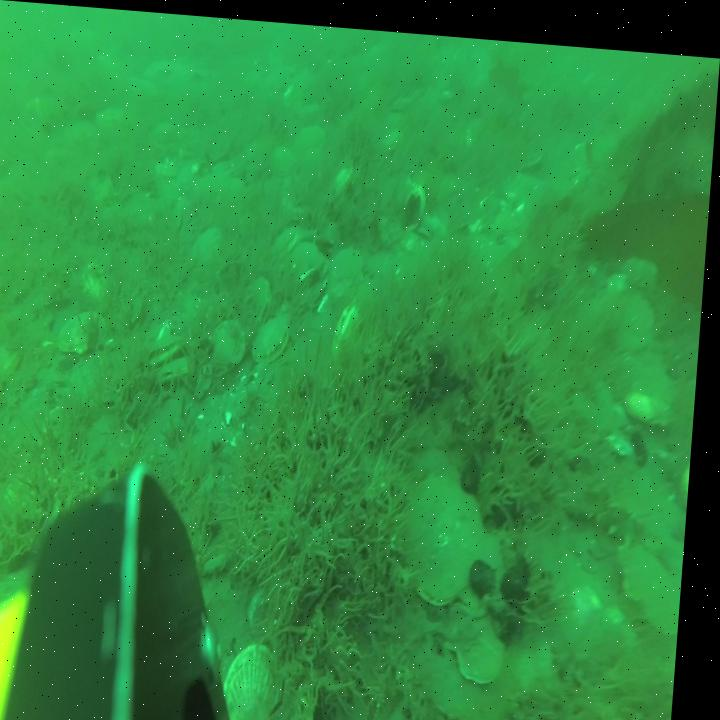holothurian: (566, 469, 657, 540)
scallop: (405, 469, 491, 599), (231, 631, 297, 720), (460, 524, 514, 605), (450, 569, 498, 641), (621, 339, 677, 400), (612, 275, 660, 342), (469, 609, 517, 675), (624, 529, 675, 591), (652, 553, 690, 629), (630, 374, 680, 425), (210, 314, 252, 372), (64, 308, 109, 360), (257, 310, 300, 363), (154, 352, 202, 392), (243, 271, 277, 327), (626, 240, 664, 288), (330, 239, 364, 290), (289, 232, 326, 278), (193, 225, 231, 266), (273, 212, 309, 253), (270, 139, 302, 178), (152, 334, 185, 371), (0, 529, 15, 607), (330, 154, 355, 199), (295, 116, 329, 148), (98, 100, 126, 133)
